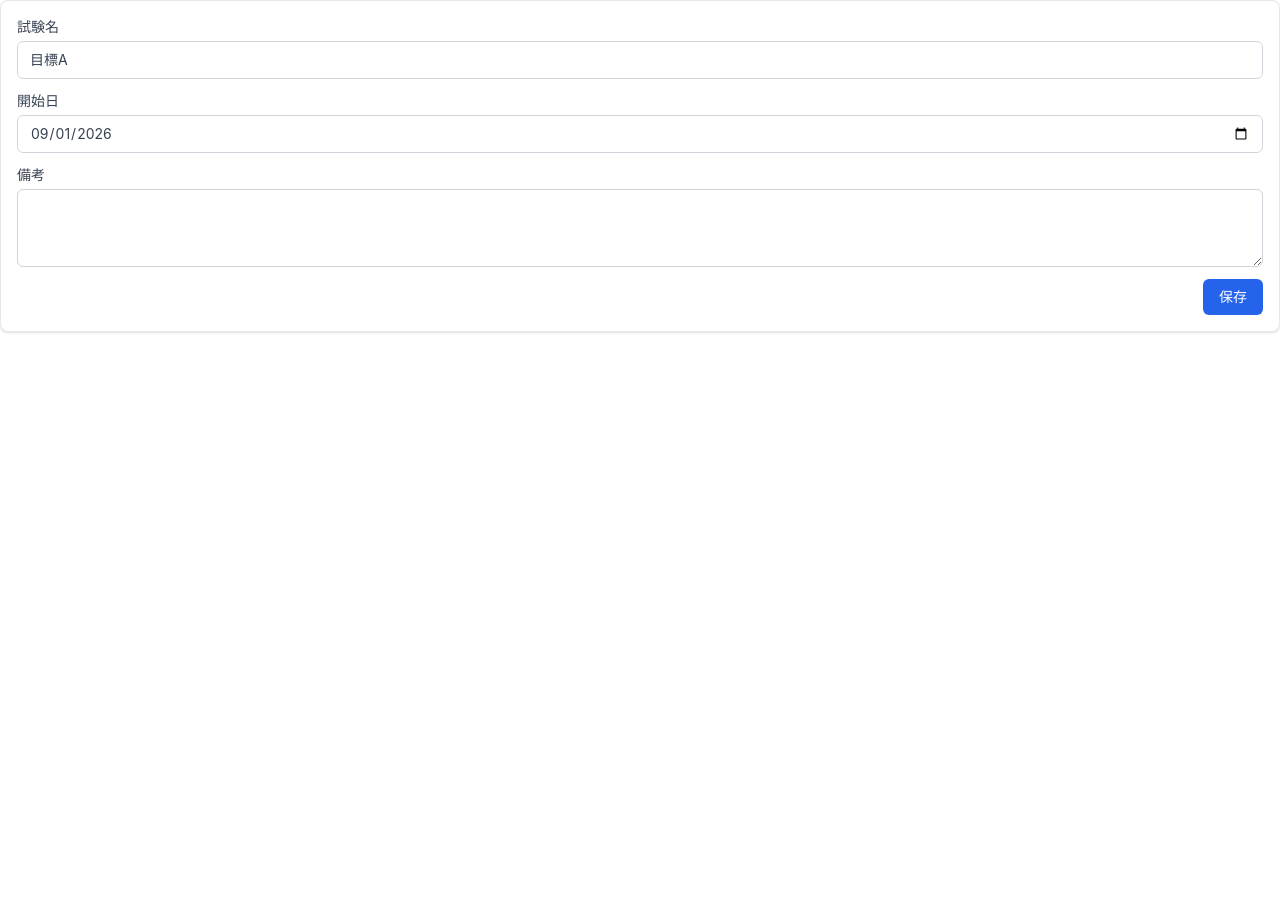
Test: BasicInfoTab の送信内容 › sends the edited values and reports success
Replace the text in the field labelled "試験名" with "新しい目標名": (640, 60) top-left (17, 41), bottom-right (1263, 79)
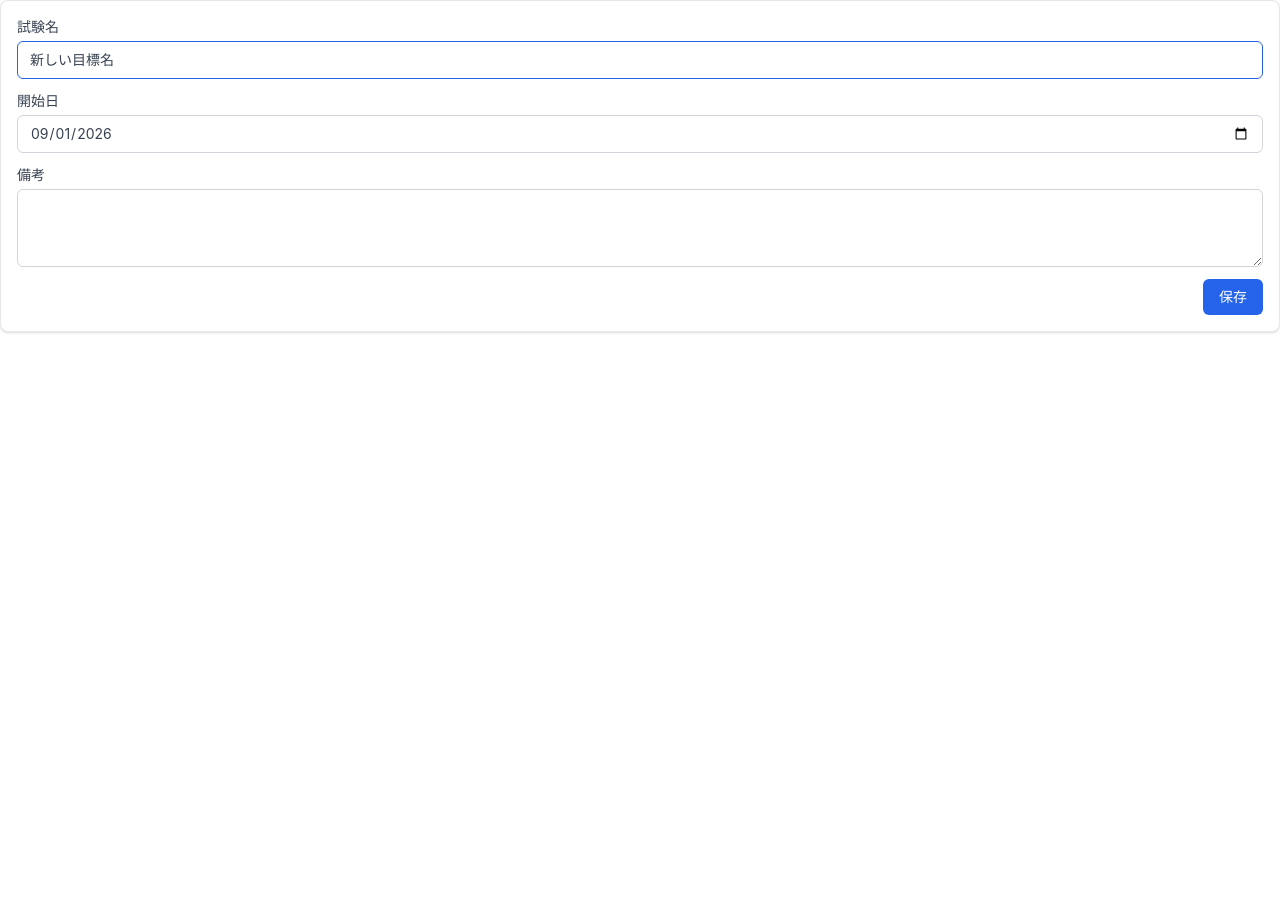
In the text box labelled "備考": (640, 228) top-left (17, 189), bottom-right (1263, 267), type "追記したメモ"
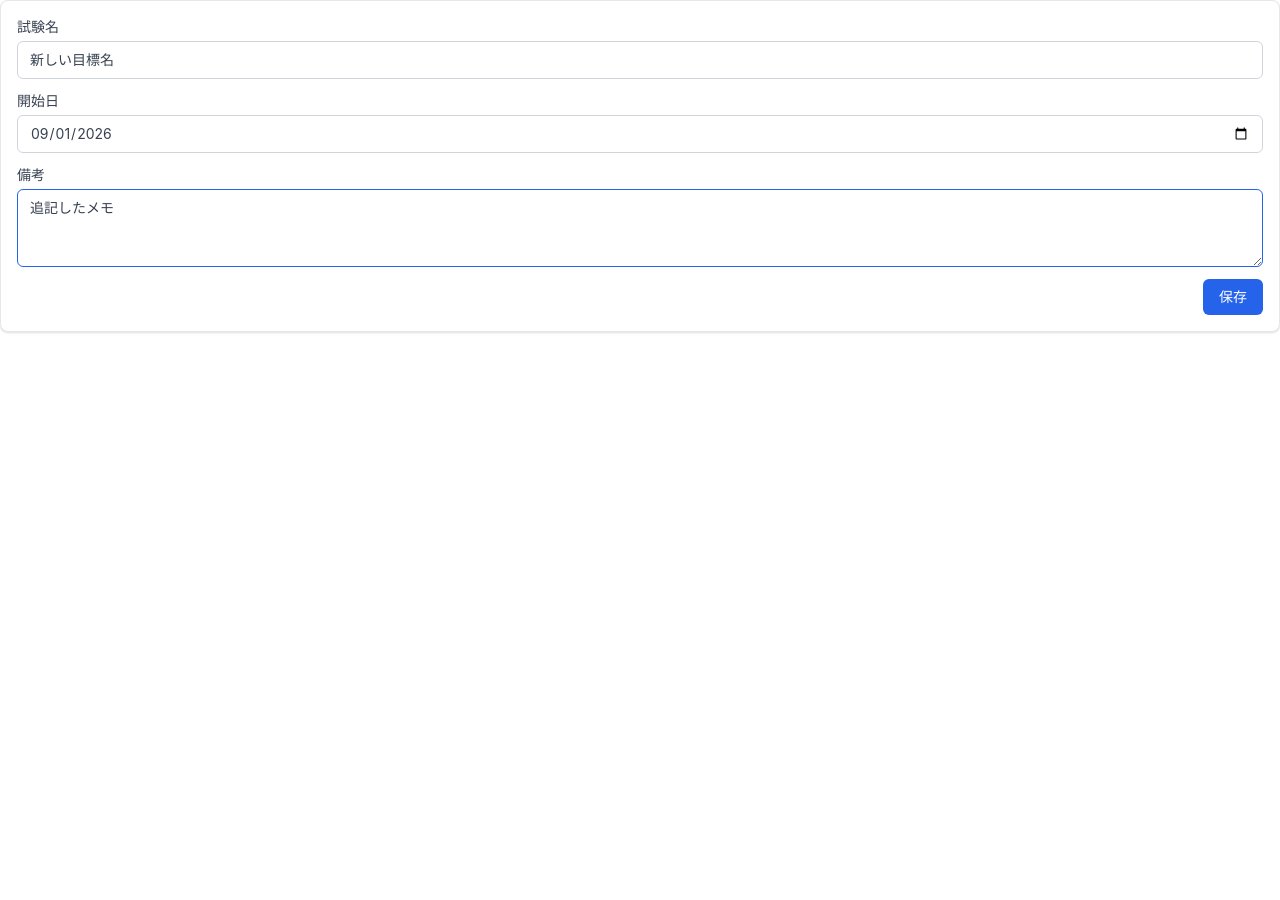
Click the button "保存": (1233, 297) top-left (1203, 279), bottom-right (1263, 315)
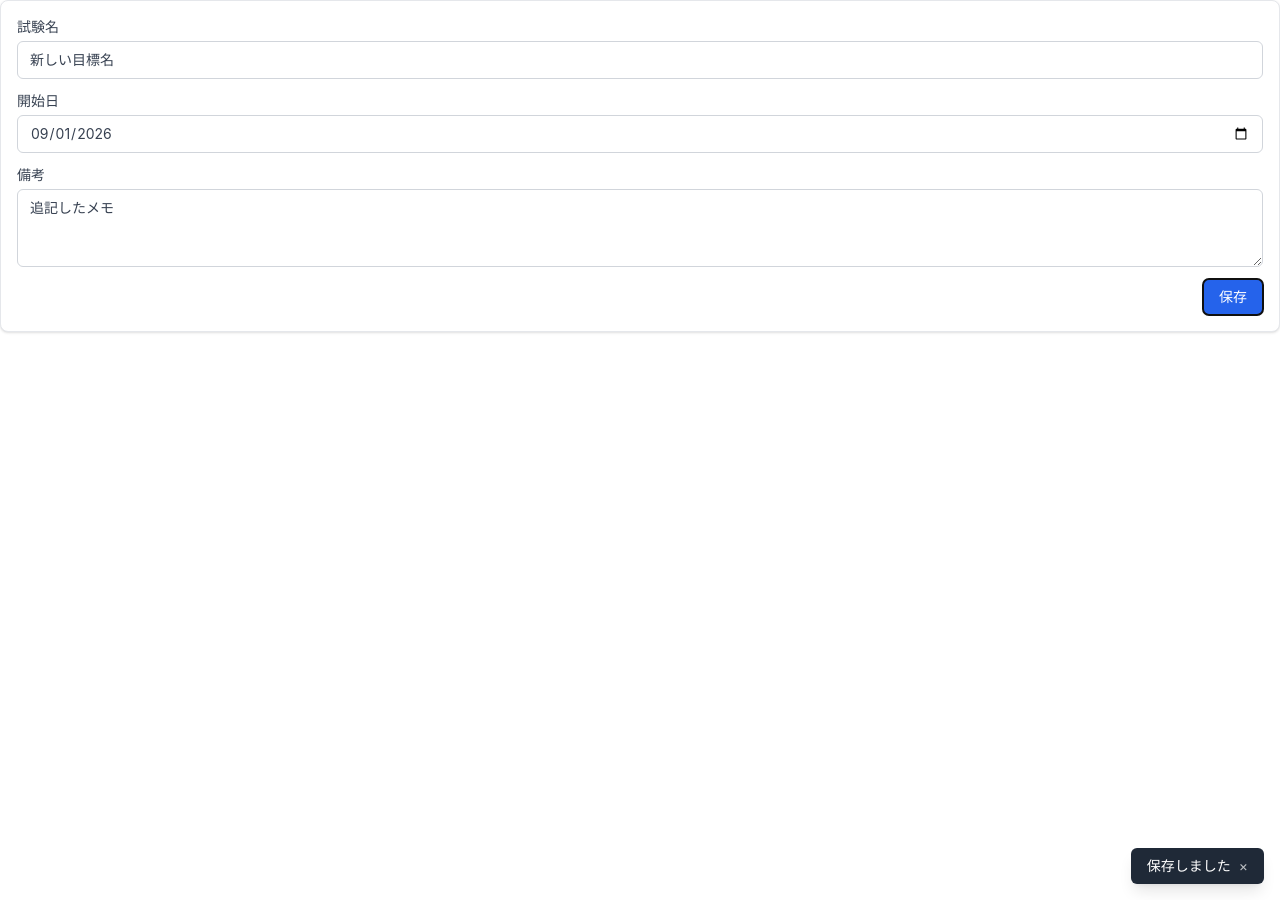
Result: the text "保存しました" is shown at top-left (1147, 856), bottom-right (1231, 876)
